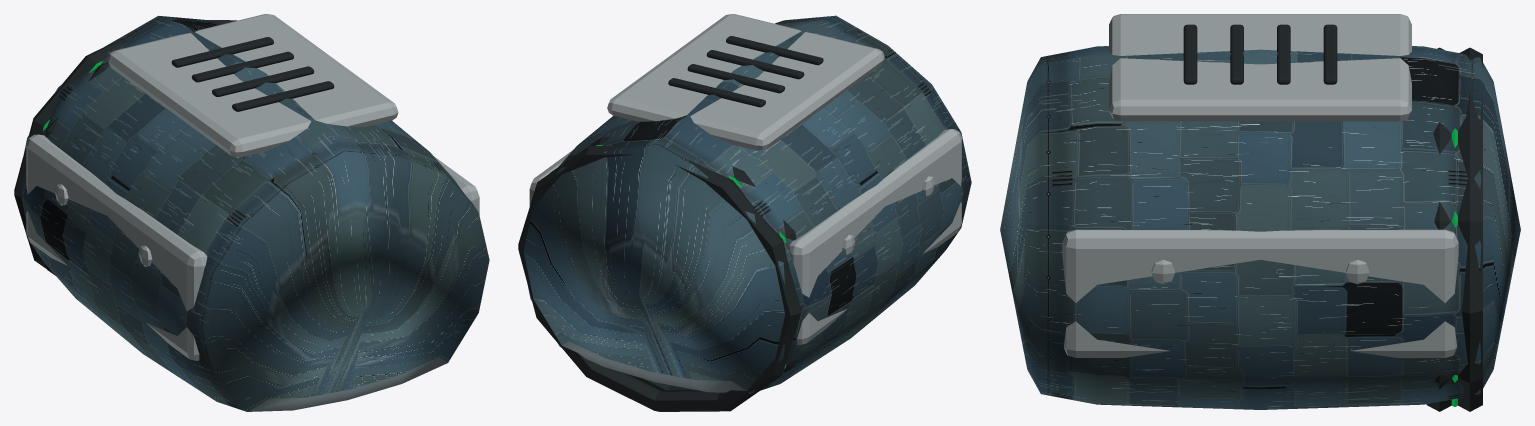
Rendered from snake_segment.glb.
The picture shows the model from 3 angles, left to right: view 1: azimuth 30°, elevation 25°; view 2: azimuth 150°, elevation 25°; view 3: azimuth 270°, elevation 25°; orthographic projection. The views are drawn at different scales.
Parts seen in each view (by area): view 1: SnakeSegment, SnakeSegmentArmor, SnakeSegmentArmor.001, SnakeSegRingHousing, SnakeSegmentVent, SnakeSegmentVent.003, SnakeSegmentVent.002, SnakeSegmentVent.001, SnakeSegmentArmor.002; view 2: SnakeSegment, SnakeSegmentArmor, SnakeSegRingHousing, SnakeSegmentArmor.001, SnakeSegmentVent, SnakeSegmentVent.003, SnakeSegmentVent.001, SnakeSegmentVent.002, SnakeSegRingHousing.001; view 3: SnakeSegment, SnakeSegmentArmor, SnakeSegmentArmor.002, SnakeSegRingHousing, SnakeSegRingHousing.001, SnakeSegmentVent, SnakeSegmentVent.003, SnakeSegmentVent.001, SnakeSegmentVent.002.
Boxes of the visible parts, <box> form: SnakeSegment: <box>21,15,489,411</box>; SnakeSegmentArmor: <box>107,14,398,157</box>; SnakeSegmentArmor.001: <box>26,134,207,360</box>; SnakeSegRingHousing: <box>14,19,236,268</box>; SnakeSegmentVent: <box>171,37,273,67</box>; SnakeSegmentVent.003: <box>232,81,334,111</box>; SnakeSegmentVent.002: <box>212,66,314,96</box>; SnakeSegmentVent.001: <box>191,51,293,82</box>; SnakeSegmentArmor.002: <box>434,156,479,214</box>; SnakeSegment: <box>523,15,971,393</box>; SnakeSegmentArmor: <box>607,14,884,150</box>; SnakeSegRingHousing: <box>518,145,801,411</box>; SnakeSegmentArmor.001: <box>789,129,961,344</box>; SnakeSegmentVent: <box>668,78,765,107</box>; SnakeSegmentVent.003: <box>726,36,823,65</box>; SnakeSegmentVent.001: <box>687,64,785,93</box>; SnakeSegmentVent.002: <box>706,50,804,79</box>; SnakeSegRingHousing.001: <box>550,137,796,390</box>; SnakeSegment: <box>1000,46,1520,409</box>; SnakeSegmentArmor: <box>1109,14,1411,121</box>; SnakeSegmentArmor.002: <box>1062,229,1458,357</box>; SnakeSegRingHousing: <box>1458,47,1482,411</box>; SnakeSegRingHousing.001: <box>1426,47,1451,411</box>; SnakeSegmentVent: <box>1323,24,1337,84</box>; SnakeSegmentVent.003: <box>1183,24,1197,84</box>; SnakeSegmentVent.001: <box>1277,24,1290,84</box>; SnakeSegmentVent.002: <box>1230,24,1243,84</box>.
Size of the model in its own units: 1.07 by 0.9659 by 1.34.
Materials: 5 (2 with a texture image).
